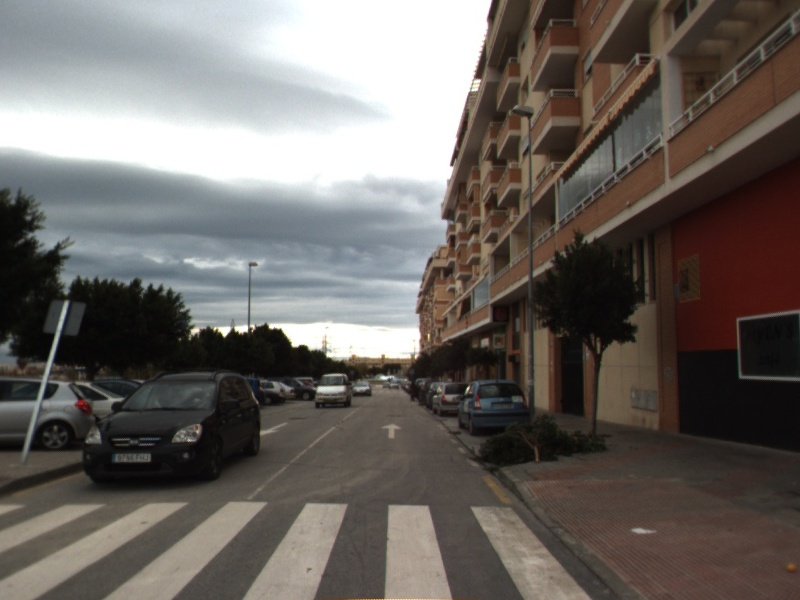STRAIGHT: (379, 421, 404, 440)
